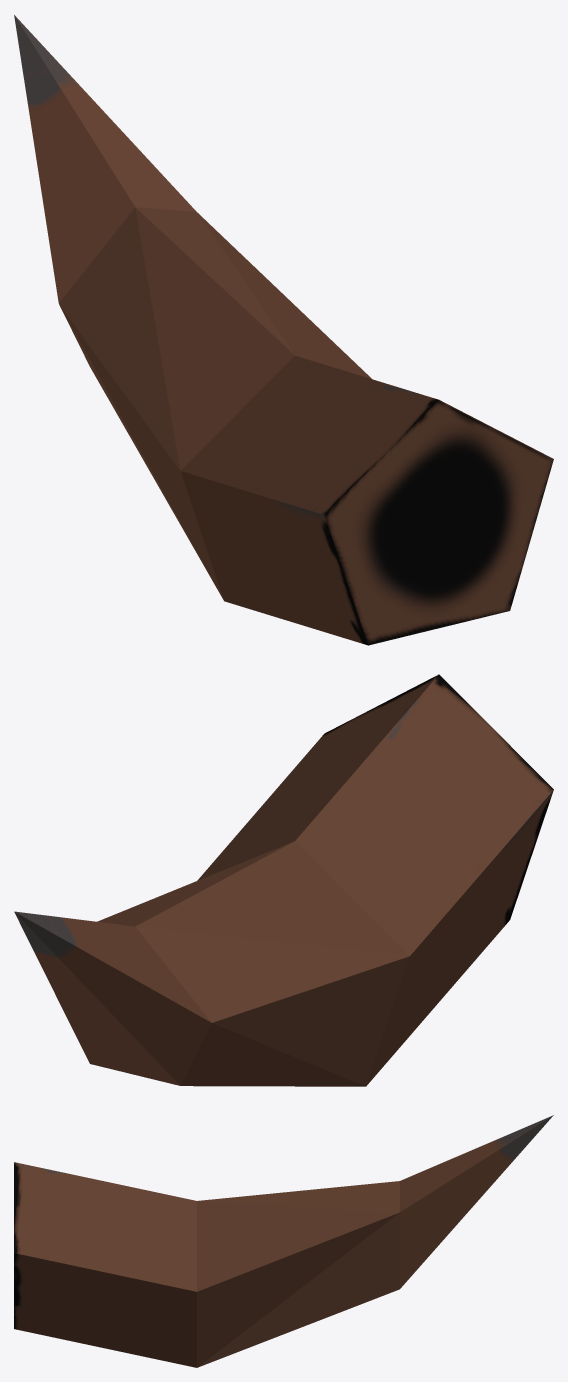
File: orc_warhorn.gltf
The picture shows the model from 3 angles, top to bottom: view 1: azimuth 30°, elevation 25°; view 2: azimuth 150°, elevation 25°; view 3: azimuth 270°, elevation 25°; orthographic projection. The views are drawn at different scales.
Visible parts, largest first — view 1: Circle; view 2: Circle; view 3: Circle.
Boxes of the visible parts, x1,y1,x2,y2 form: Circle: (14,15,553,645); Circle: (14,674,553,1086); Circle: (14,1115,553,1367).
Size of the model in its own units: 1.75 by 2.65 by 5.61.
1 material, 1 textured.
